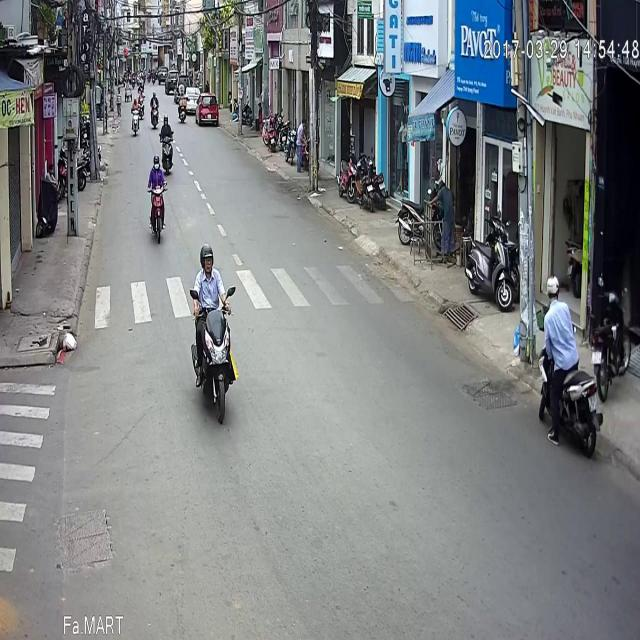car: (194, 34, 218, 68), (185, 28, 201, 56)
motorcycle: (534, 215, 602, 400), (192, 186, 236, 370), (148, 94, 168, 187), (158, 54, 174, 119), (149, 33, 160, 73), (130, 38, 140, 78), (176, 31, 186, 64)
